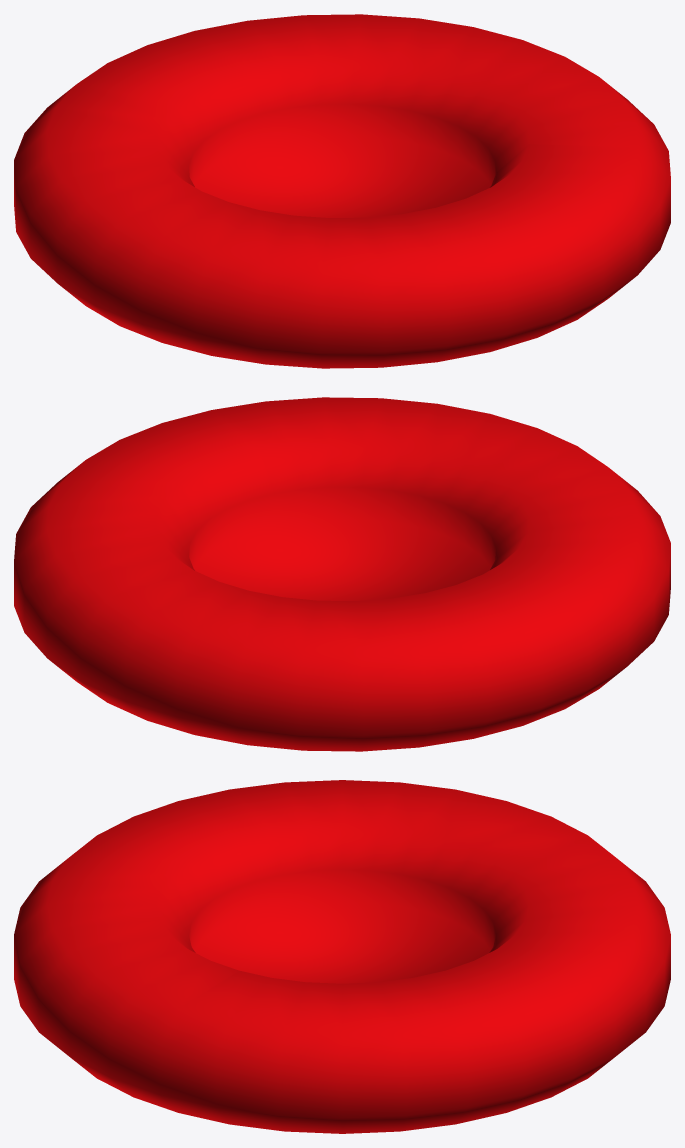
The model's file is red_blood_cell_1.fbx.
3 views of the same model, one above another, from view 1: azimuth 30°, elevation 25°; view 2: azimuth 150°, elevation 25°; view 3: azimuth 270°, elevation 25° (orthographic).
Parts seen in each view (by area): view 1: Cylinder.001; view 2: Cylinder.001; view 3: Cylinder.001.
Boxes of the visible parts, x1,y1,x2,y2 form: Cylinder.001: (14,14,670,368); Cylinder.001: (14,397,670,751); Cylinder.001: (14,780,670,1133).
Bounding box in the file's own units: 200 × 35 × 200.
